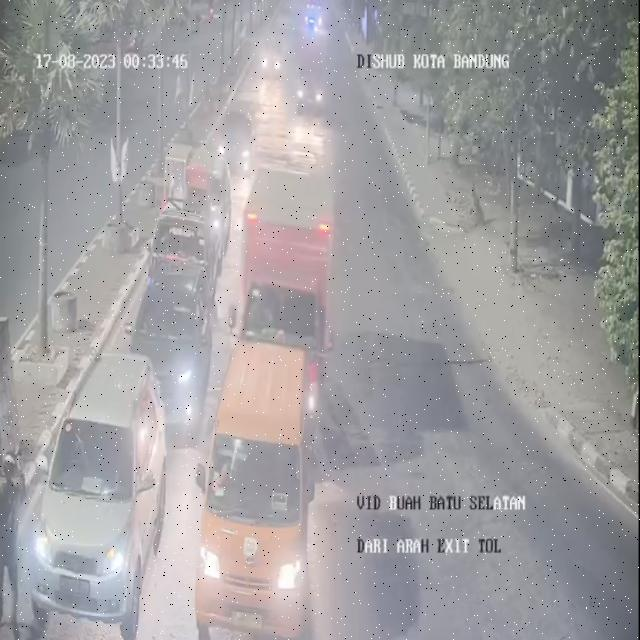cars: (39, 342, 169, 618), (209, 353, 311, 640), (120, 265, 212, 445), (213, 104, 263, 176), (291, 66, 330, 126), (260, 33, 286, 82)
truck: (232, 174, 336, 413), (146, 151, 233, 292)
